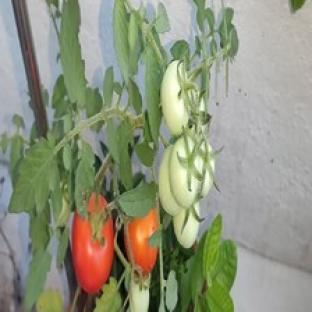Tomato: (169, 134, 214, 207), (73, 214, 114, 293), (124, 209, 158, 274), (161, 60, 189, 136), (159, 147, 181, 215), (173, 209, 199, 247), (130, 276, 150, 311), (202, 156, 214, 196)
